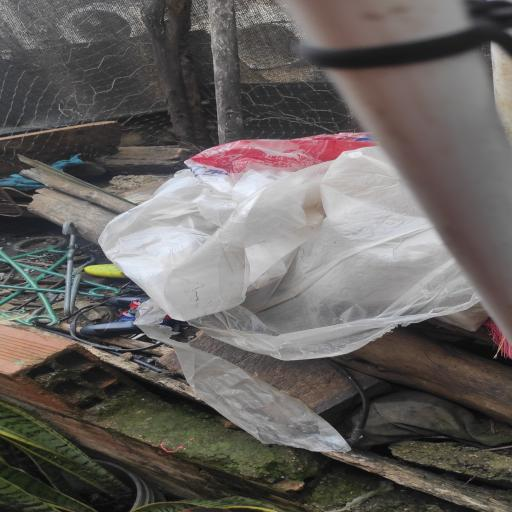ControlPlay4: (80, 295, 149, 337)
